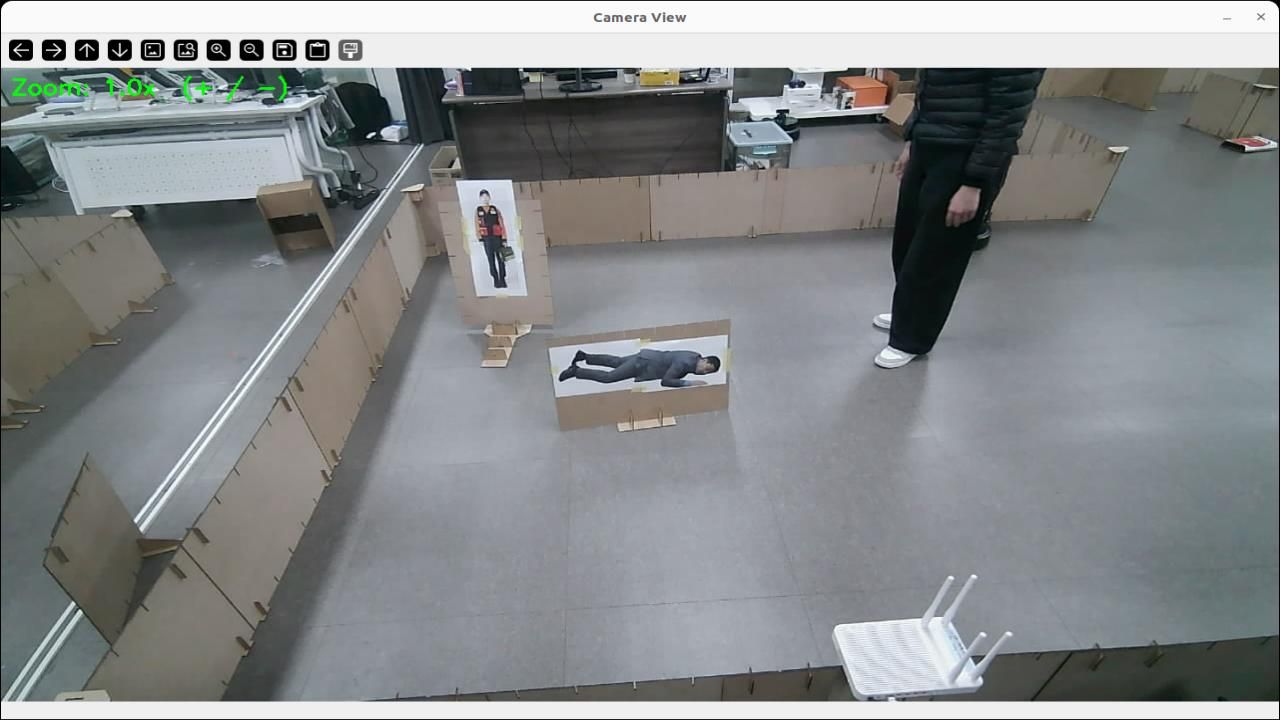Patient: (560, 349, 719, 387)
Responder: (477, 190, 506, 288)
